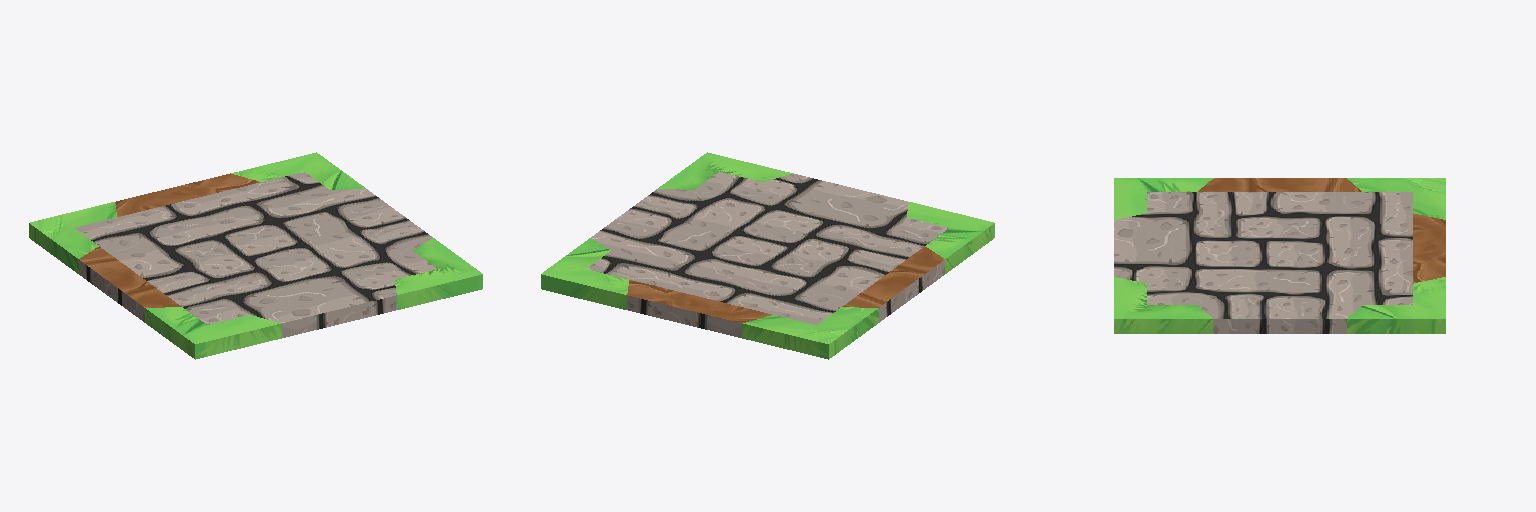
The picture shows the model from 3 angles: view 1: azimuth 30°, elevation 25°; view 2: azimuth 150°, elevation 25°; view 3: azimuth 270°, elevation 25°; orthographic projection.
Parts seen in each view (by area): view 1: Box001; view 2: Box001; view 3: Box001.
Part boxes in pixels (left/top/right/bottom): Box001: left=29, top=152, right=482, bottom=359; Box001: left=541, top=152, right=994, bottom=359; Box001: left=1114, top=178, right=1445, bottom=333.
Bounding box in the file's own units: 3.94 × 0.1969 × 3.94.
1 materials, 1 textured.